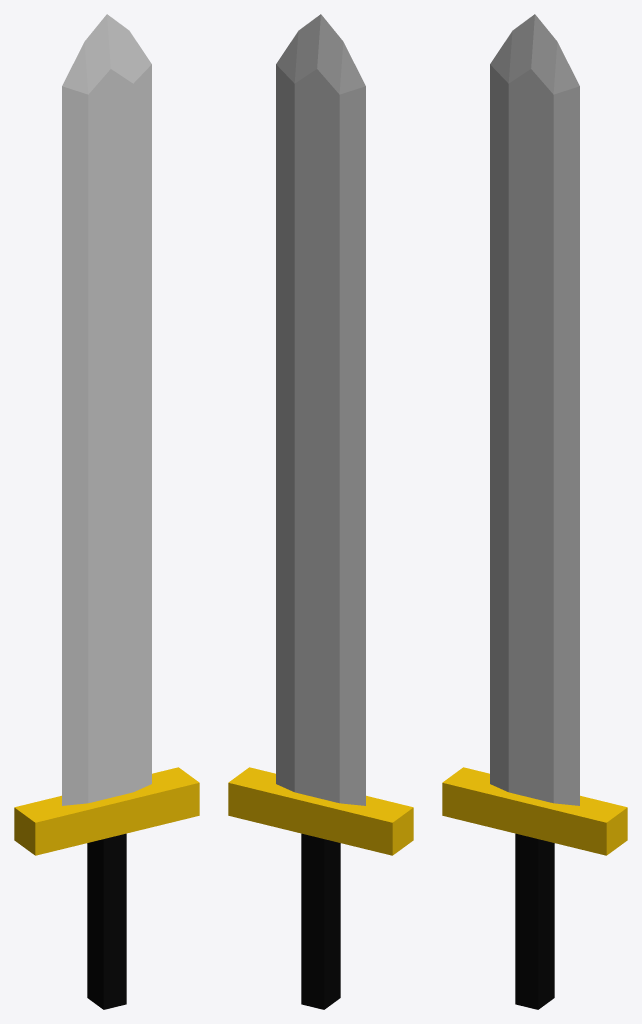
File: Sword-Heavy.FBX
3 renders of one model, left to right at view 1: azimuth 30°, elevation 25°; view 2: azimuth 150°, elevation 25°; view 3: azimuth 330°, elevation 25°, orthographic.
Parts seen in each view (by area): view 1: Sword-Heavy; view 2: Sword-Heavy; view 3: Sword-Heavy.
Part boxes in pixels (left/top/right/bottom): Sword-Heavy: left=14, top=14, right=199, bottom=1009; Sword-Heavy: left=228, top=14, right=413, bottom=1009; Sword-Heavy: left=442, top=14, right=627, bottom=1009.
Bounding box in the file's own units: 12.01 × 68.92 × 2.67.
